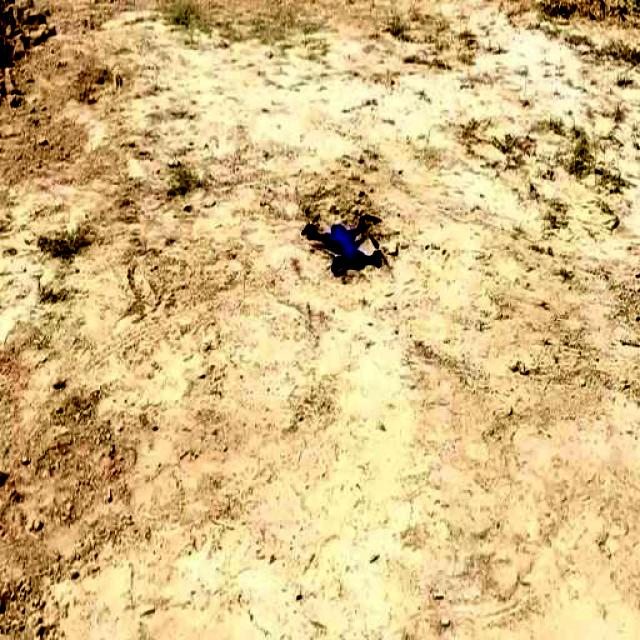bird: (304, 202, 394, 291)
